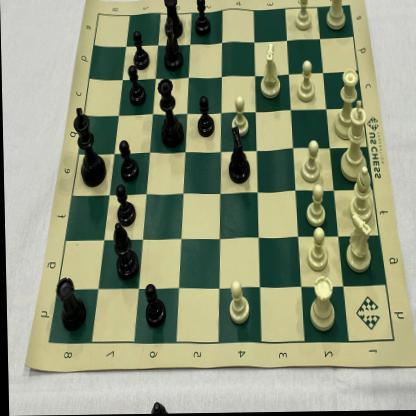black-king: (72, 104, 106, 190)
black-knight: (107, 221, 140, 283)
black-pawn: (141, 281, 170, 329), (113, 181, 138, 229), (116, 138, 139, 184), (194, 92, 215, 139), (125, 65, 147, 108), (131, 29, 152, 71), (191, 0, 213, 40)
black-queen: (156, 75, 185, 153)
black-rook: (54, 274, 87, 333), (161, 0, 185, 41)
white-bishop: (346, 164, 376, 225)
white-king: (337, 99, 371, 185)
white-knight: (344, 212, 375, 276), (257, 41, 284, 101), (225, 126, 252, 185), (161, 16, 185, 72)
white-pawn: (226, 277, 251, 327), (305, 226, 330, 273), (299, 141, 323, 186), (303, 184, 327, 229), (295, 59, 317, 106), (229, 94, 250, 138), (292, 0, 314, 32)
white-queen: (331, 67, 362, 142)
white-rook: (306, 274, 337, 334), (324, 0, 349, 32)
